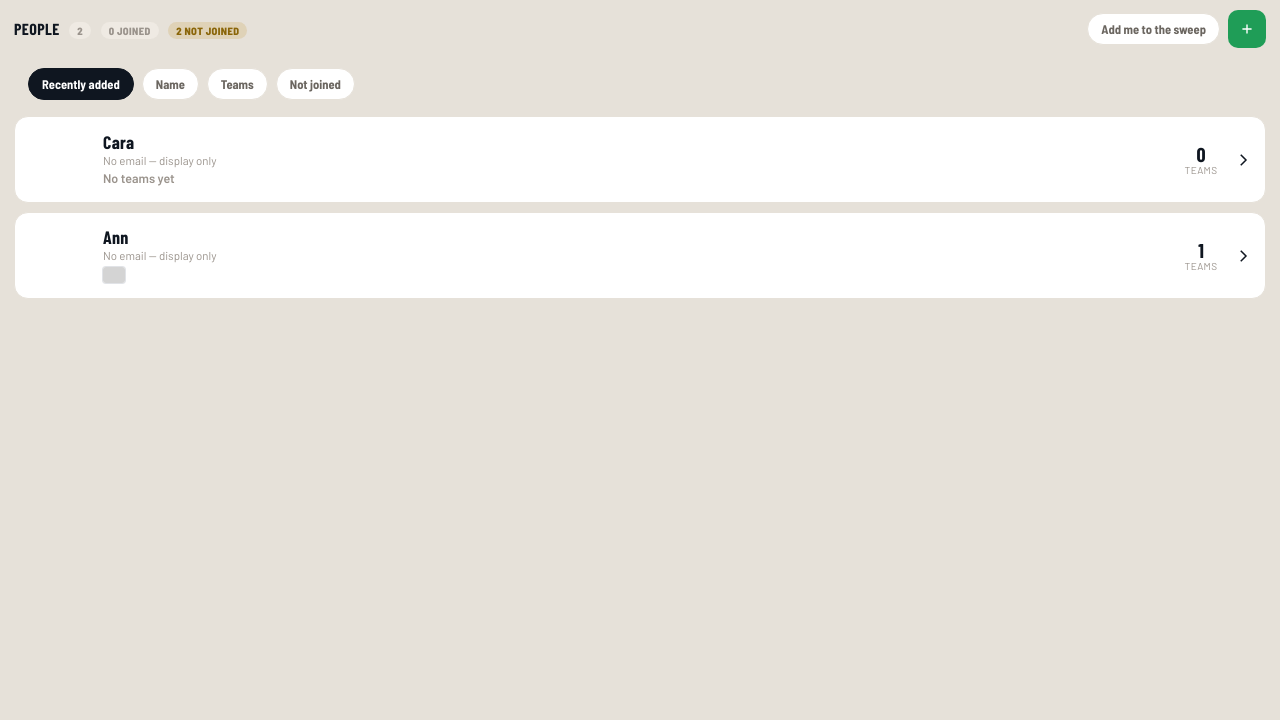
PeopleAdmin allocation sheet offers no permanent delete
Click the text "Ann" at (116, 237), box [103, 226, 129, 248]
(page scrolled)
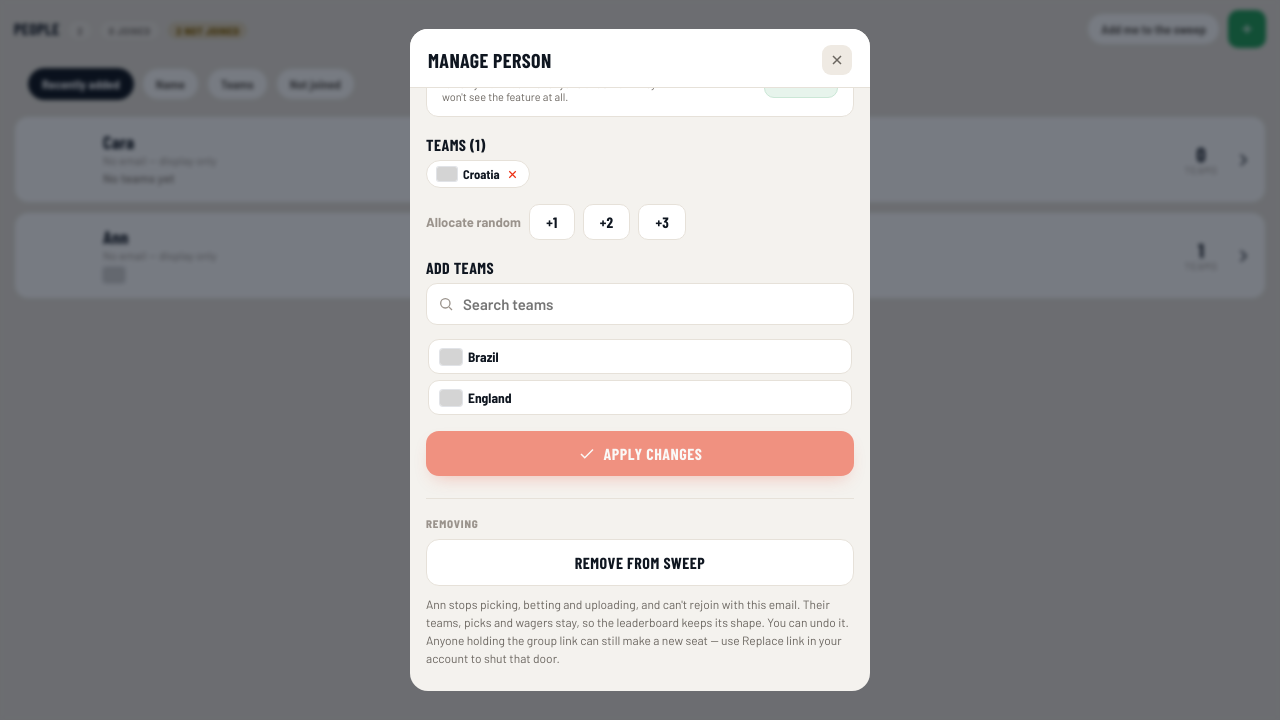
expect the button "Remove from sweep" is shown: met, box [426, 539, 854, 586]
